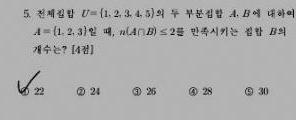choice: (16, 80, 30, 97)
not-choice: (75, 85, 86, 97), (131, 85, 142, 97), (187, 86, 198, 97), (243, 86, 254, 97)
